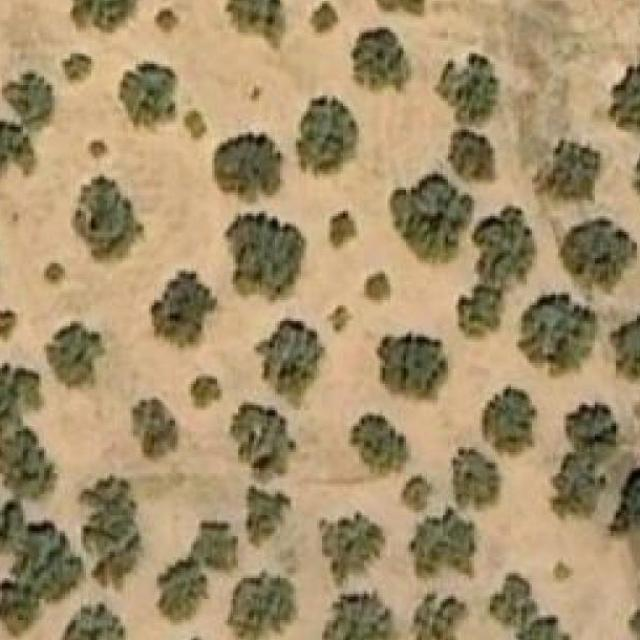Tree: (387, 172, 474, 267), (78, 473, 140, 589), (516, 293, 598, 380), (72, 172, 144, 261), (225, 213, 303, 295), (256, 319, 324, 408), (230, 399, 298, 482), (377, 331, 455, 403), (149, 272, 220, 348), (319, 508, 385, 586), (296, 96, 359, 174), (469, 209, 532, 287), (560, 216, 628, 288), (20, 524, 78, 602), (408, 510, 474, 578), (230, 573, 296, 640), (320, 585, 399, 640), (44, 321, 105, 392), (214, 132, 282, 195), (532, 140, 603, 200), (118, 61, 178, 132), (440, 56, 500, 122), (482, 384, 537, 455), (0, 428, 55, 499), (351, 28, 412, 90), (348, 414, 409, 476), (159, 562, 212, 626), (225, 0, 286, 51), (553, 455, 605, 513), (450, 447, 501, 505), (130, 397, 177, 458), (412, 590, 469, 640), (246, 487, 290, 550), (4, 72, 55, 125), (565, 402, 618, 452), (59, 601, 125, 640), (458, 284, 506, 335), (191, 517, 238, 568), (0, 575, 39, 636), (67, 0, 139, 33), (490, 573, 537, 623), (456, 129, 500, 179), (0, 120, 37, 177), (0, 368, 37, 424), (611, 62, 640, 130), (611, 316, 640, 382), (618, 468, 640, 539), (329, 209, 359, 251), (359, 272, 395, 306), (308, 1, 340, 38), (188, 377, 222, 411), (403, 476, 432, 511), (374, 0, 425, 17), (182, 109, 206, 144), (62, 54, 91, 80), (328, 306, 353, 332), (632, 147, 640, 224), (0, 311, 18, 345), (156, 10, 178, 34), (85, 140, 109, 158), (44, 264, 65, 284), (627, 609, 640, 640)
